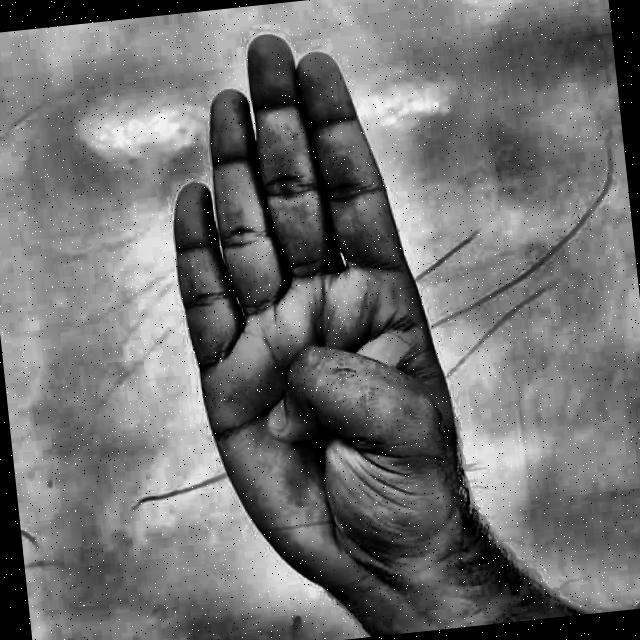Ba: (126, 3, 530, 640)
